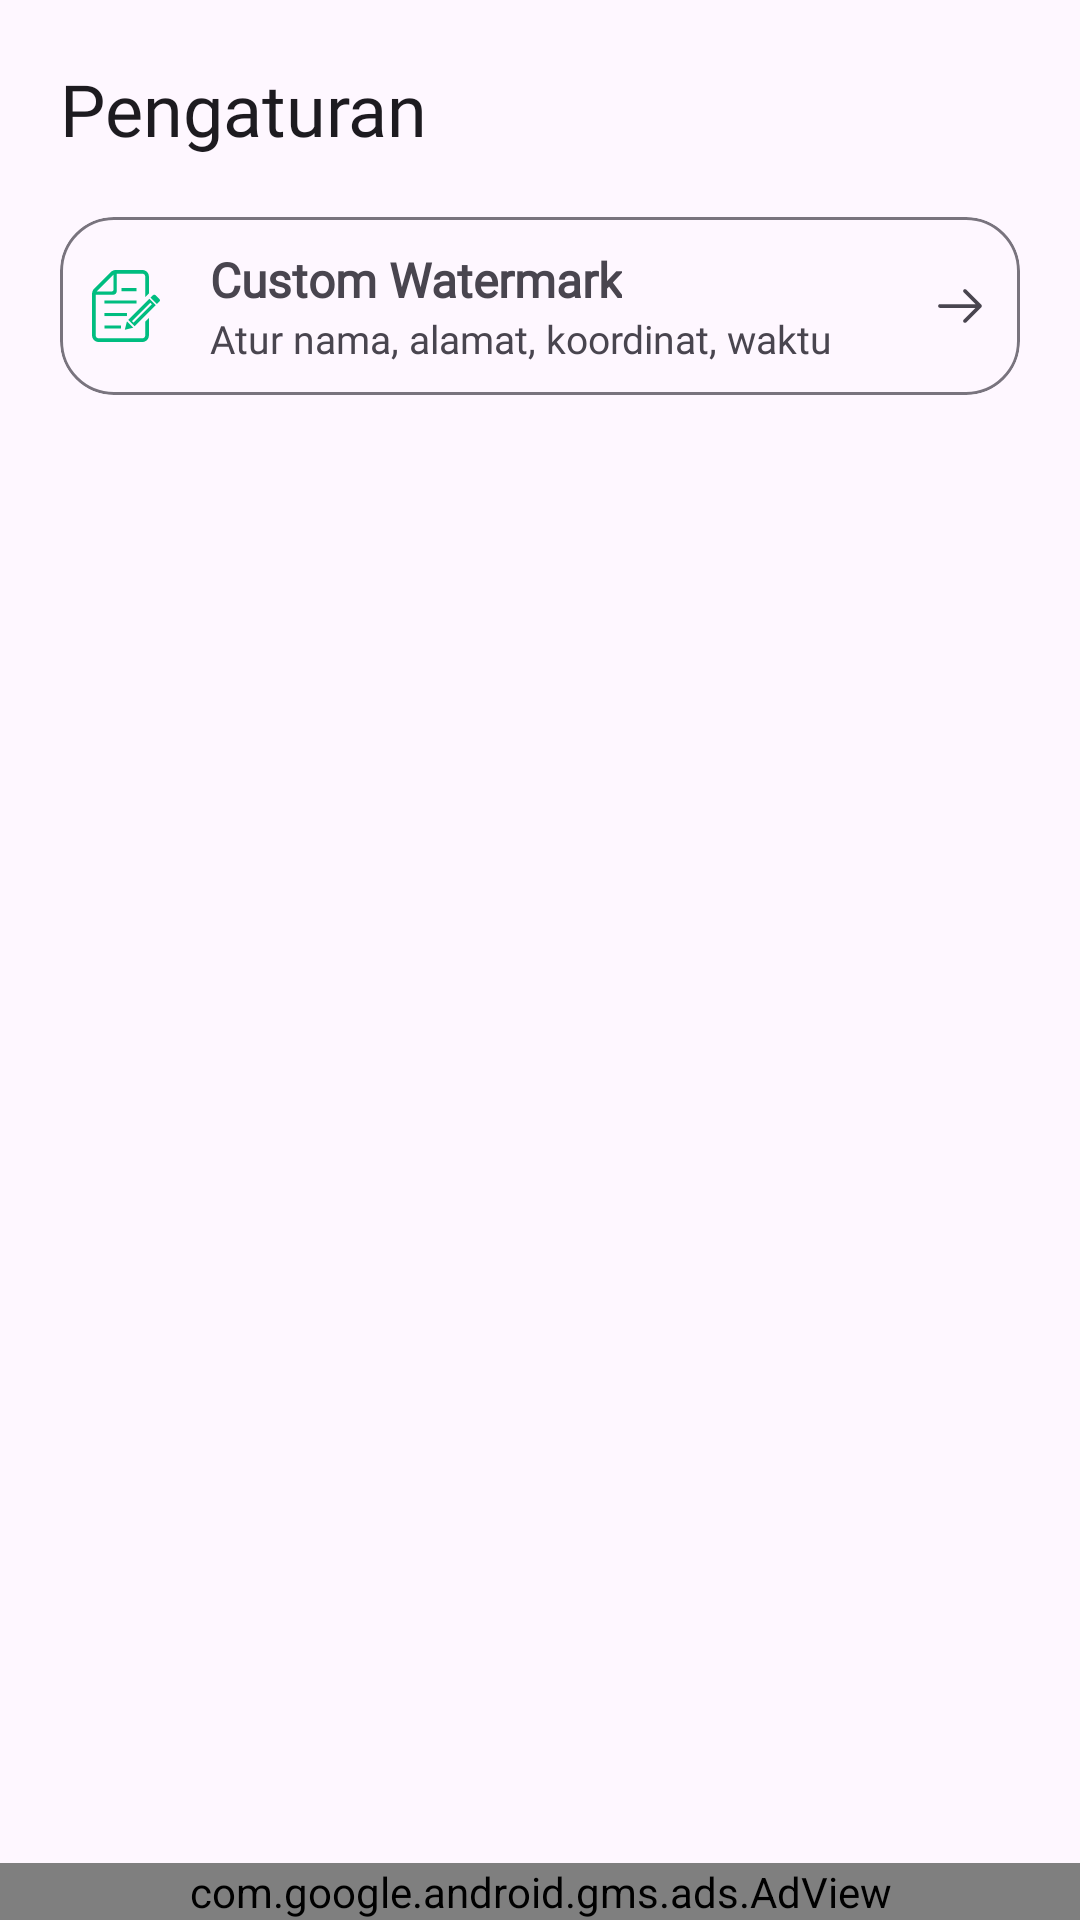

Named icons in this screenshot (1080×1920) and their centers, [x,y]:
arrow right: [960,306]
